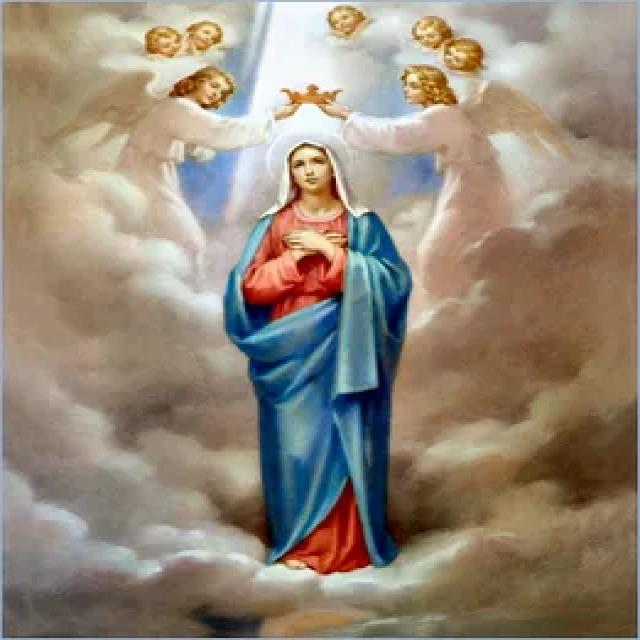mother of god: (207, 127, 444, 573)
